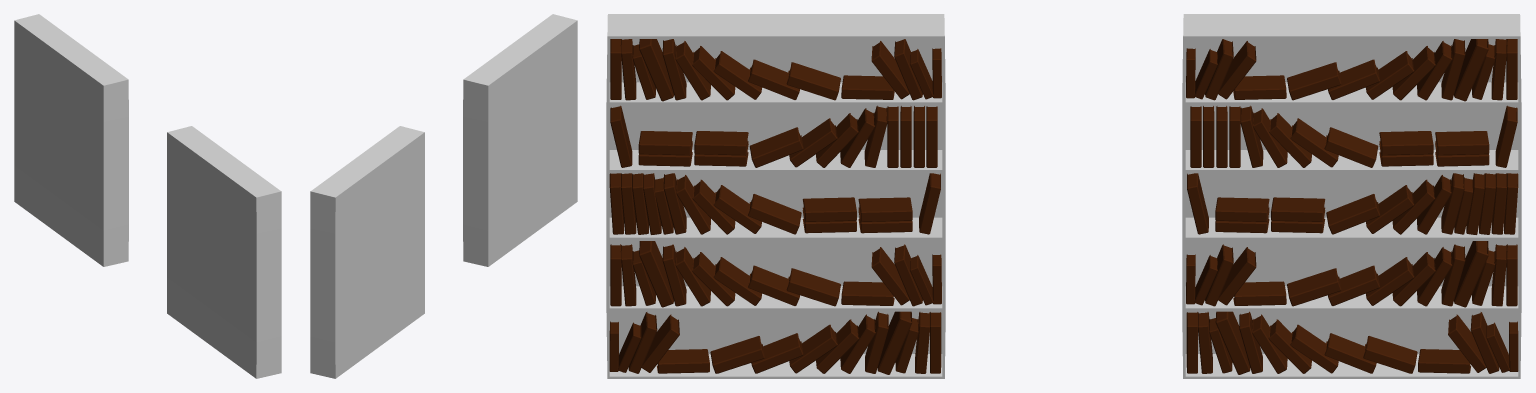
Rendered from shelf.fbx.
3 views of the same model, side by side, from view 1: azimuth 30°, elevation 25°; view 2: azimuth 150°, elevation 25°; view 3: azimuth 270°, elevation 25° (orthographic). The views are drawn at different scales.
Parts seen in each view (by area): view 1: Cube.029, Cube.118; view 2: Cube.029, Cube.118; view 3: Cube.029, Cube.118, Cube.027, Cube.116, Cube.028, Cube.117, Cube.056, Cube.057, Cube.145, Cube.146, Cube.022, Cube.087 (+98 smaller).
Part boxes in pixels (x1=…): Cube.029: x1=167, y1=126, x2=281, y2=378; Cube.118: x1=14, y1=14, x2=128, y2=266; Cube.029: x1=463, y1=14, x2=577, y2=266; Cube.118: x1=310, y1=126, x2=424, y2=378; Cube.029: x1=606, y1=14, x2=945, y2=378; Cube.118: x1=1182, y1=14, x2=1521, y2=378; Cube.027: x1=694, y1=131, x2=748, y2=155; Cube.116: x1=1379, y1=131, x2=1433, y2=155; Cube.028: x1=638, y1=131, x2=692, y2=155; Cube.117: x1=1435, y1=131, x2=1489, y2=155; Cube.056: x1=802, y1=197, x2=856, y2=221; Cube.057: x1=858, y1=197, x2=912, y2=221; Cube.145: x1=1271, y1=197, x2=1325, y2=221; Cube.146: x1=1215, y1=197, x2=1269, y2=221; Cube.022: x1=786, y1=62, x2=840, y2=100; Cube.087: x1=710, y1=336, x2=764, y2=373.
Size of the model in its own units: 139 by 972 by 2350.
